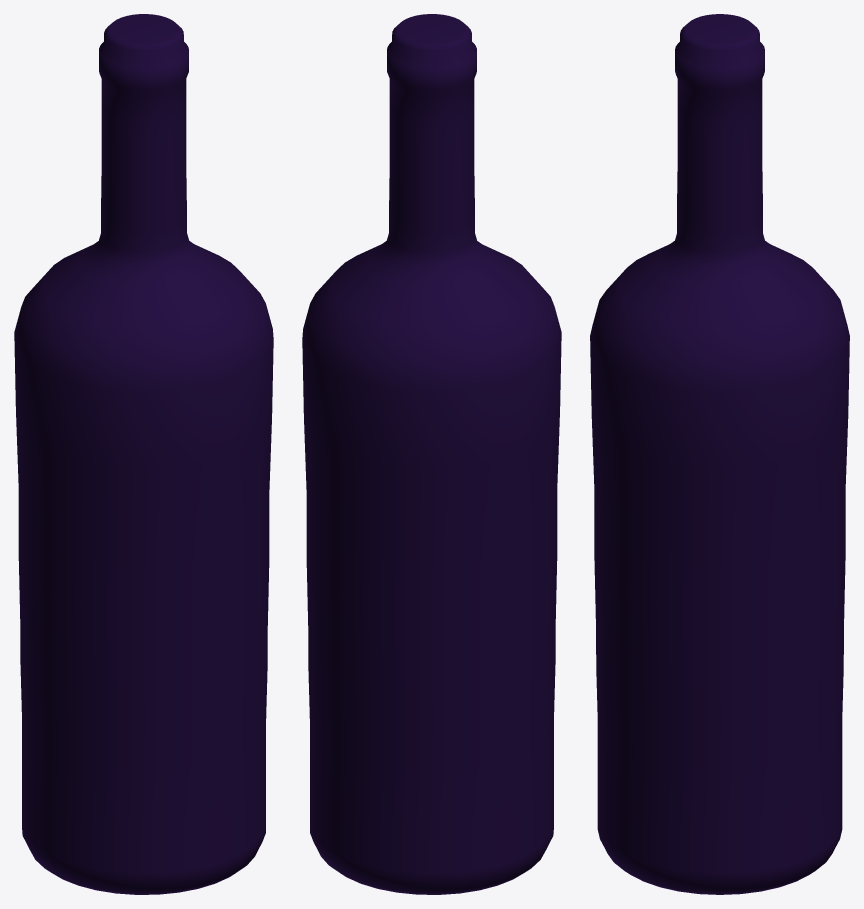
The model's file is bottle1.fbx.
3 renders of one model, left to right at view 1: azimuth 30°, elevation 25°; view 2: azimuth 150°, elevation 25°; view 3: azimuth 270°, elevation 25°, orthographic.
Parts seen in each view (by area): view 1: Cylinder; view 2: Cylinder; view 3: Cylinder.
Boxes of the visible parts, box(x1,y1,x2,y2) form: Cylinder: box(14, 14, 273, 894); Cylinder: box(302, 14, 561, 894); Cylinder: box(590, 14, 849, 894).
Bounding box in the file's own units: 49.52 × 174 × 49.52.
